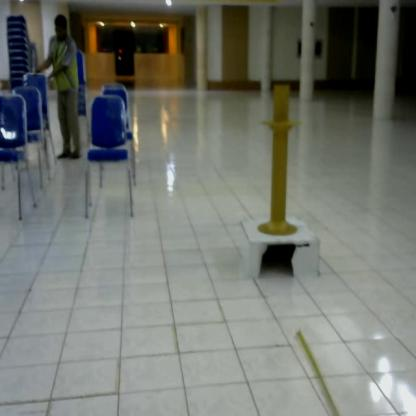pole: (250, 76, 310, 244)
